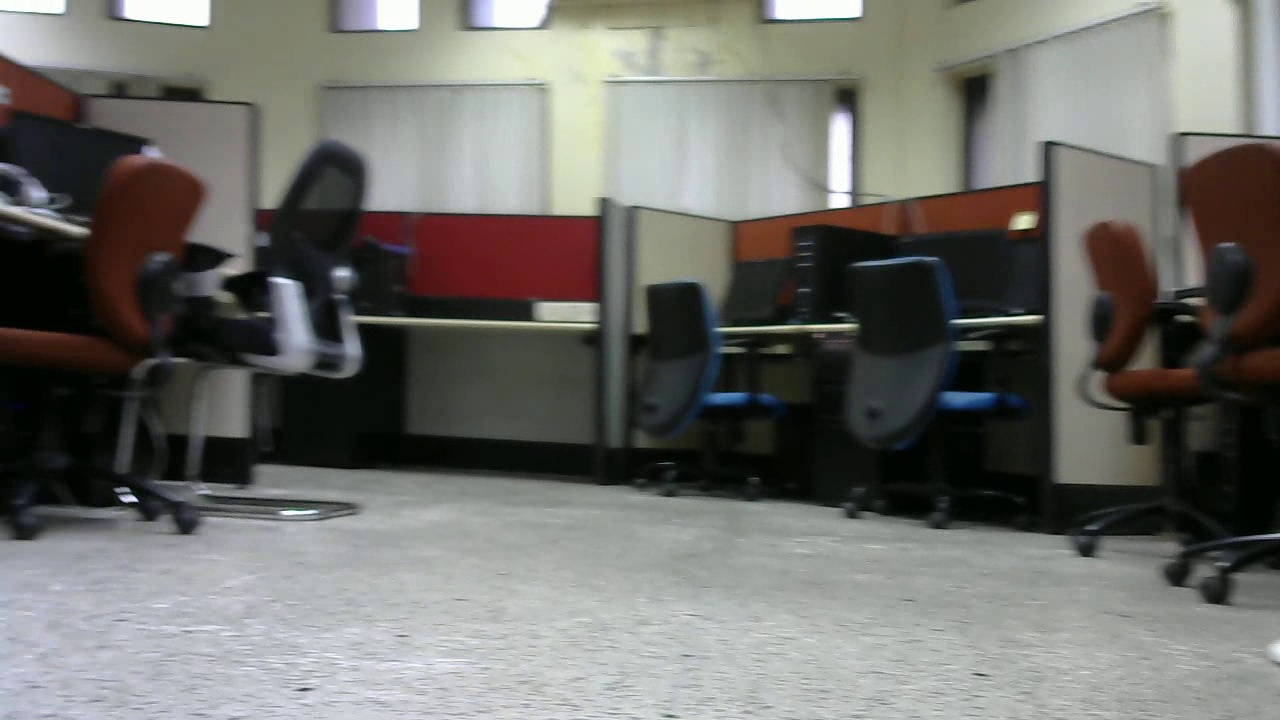chair: (3, 148, 198, 536), (206, 137, 377, 531), (829, 260, 1036, 529), (1079, 220, 1219, 556), (630, 281, 786, 500)
